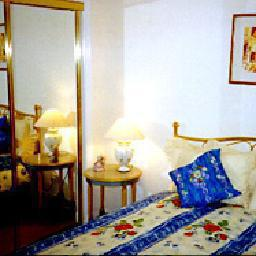Cama: (9, 138, 252, 253)
